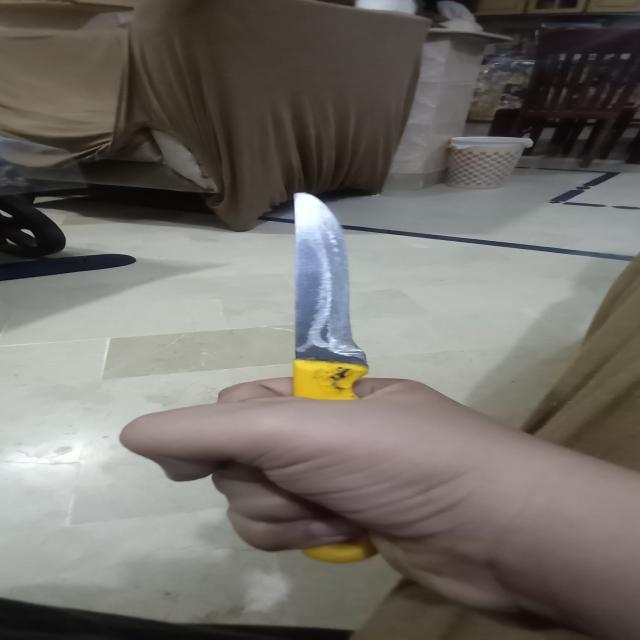Knife: (242, 170, 399, 568)
